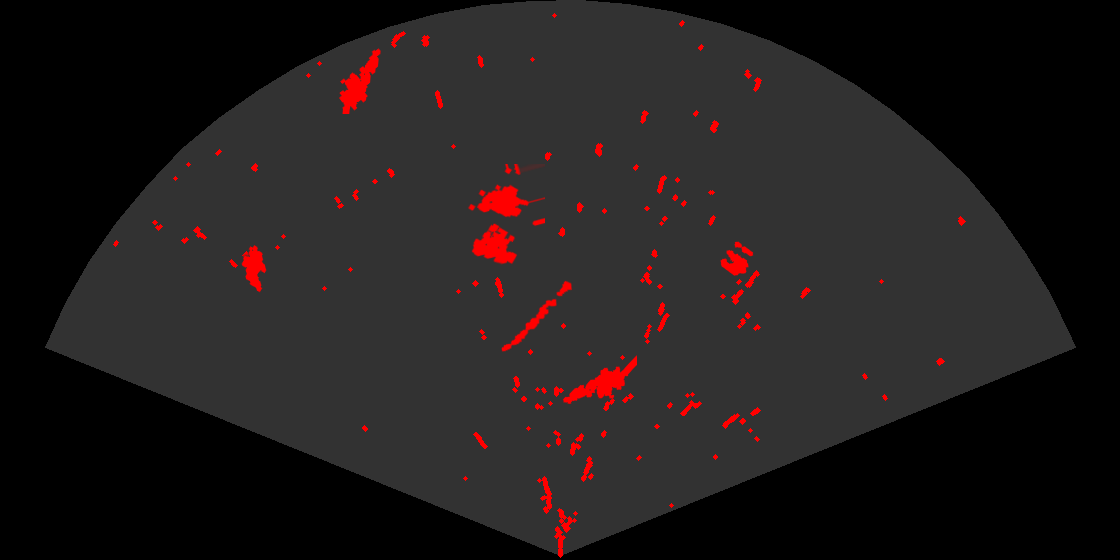AUV: (240, 244, 268, 294)
ball: (719, 240, 755, 277)
cage: (466, 164, 545, 266)
chain: (500, 279, 574, 353)
frogman: (561, 354, 637, 406), (338, 47, 382, 114)
